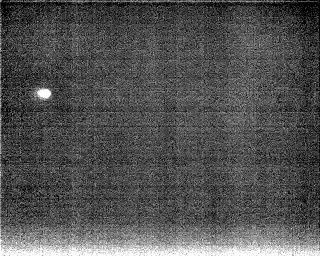AIRPLANE: (35, 86, 53, 103)
